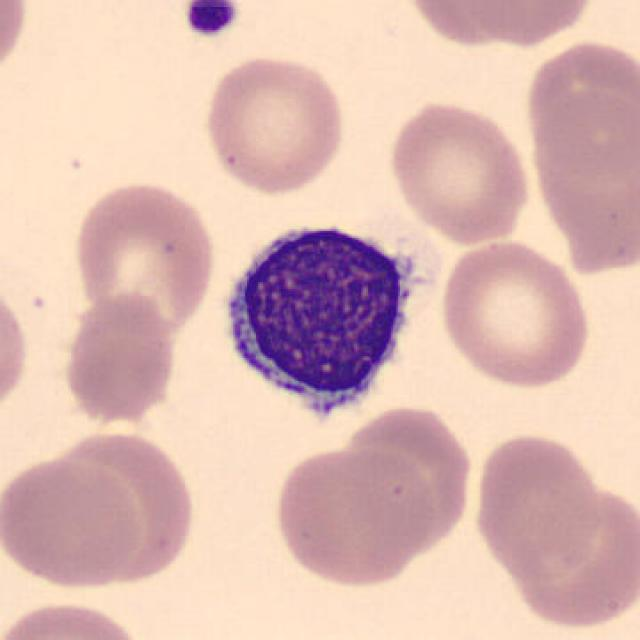Lymphocyte: (208, 208, 437, 437)
Platelets: (180, 0, 243, 41)
RBC: (46, 425, 203, 587), (436, 235, 594, 392), (270, 442, 436, 589), (69, 176, 219, 338), (496, 472, 640, 633), (384, 97, 535, 245), (199, 51, 350, 198), (339, 400, 476, 556), (470, 430, 604, 582), (0, 451, 144, 591), (541, 96, 640, 268), (59, 289, 181, 427), (521, 34, 638, 174), (457, 0, 599, 49), (398, 0, 536, 49), (0, 596, 151, 640), (0, 277, 32, 423), (0, 0, 32, 86)
